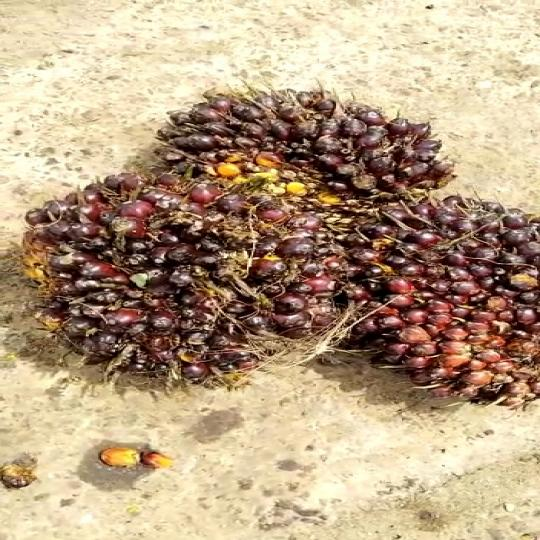kurang masak: (19, 184, 324, 364), (332, 184, 540, 411), (139, 89, 461, 218)
